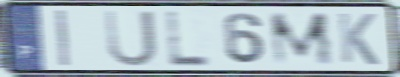6: (222, 12, 267, 66)
I: (54, 8, 72, 68)
K: (335, 11, 381, 68)
L: (165, 9, 214, 68)
M: (267, 10, 337, 67)
U: (102, 8, 160, 68)
